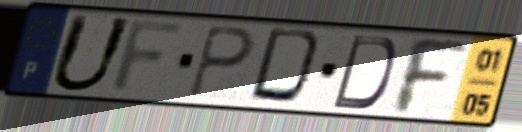D: (245, 25, 329, 109), (328, 33, 400, 112)
F: (105, 17, 191, 98), (392, 34, 472, 117)
P: (186, 23, 257, 100)
U: (45, 11, 138, 96)
